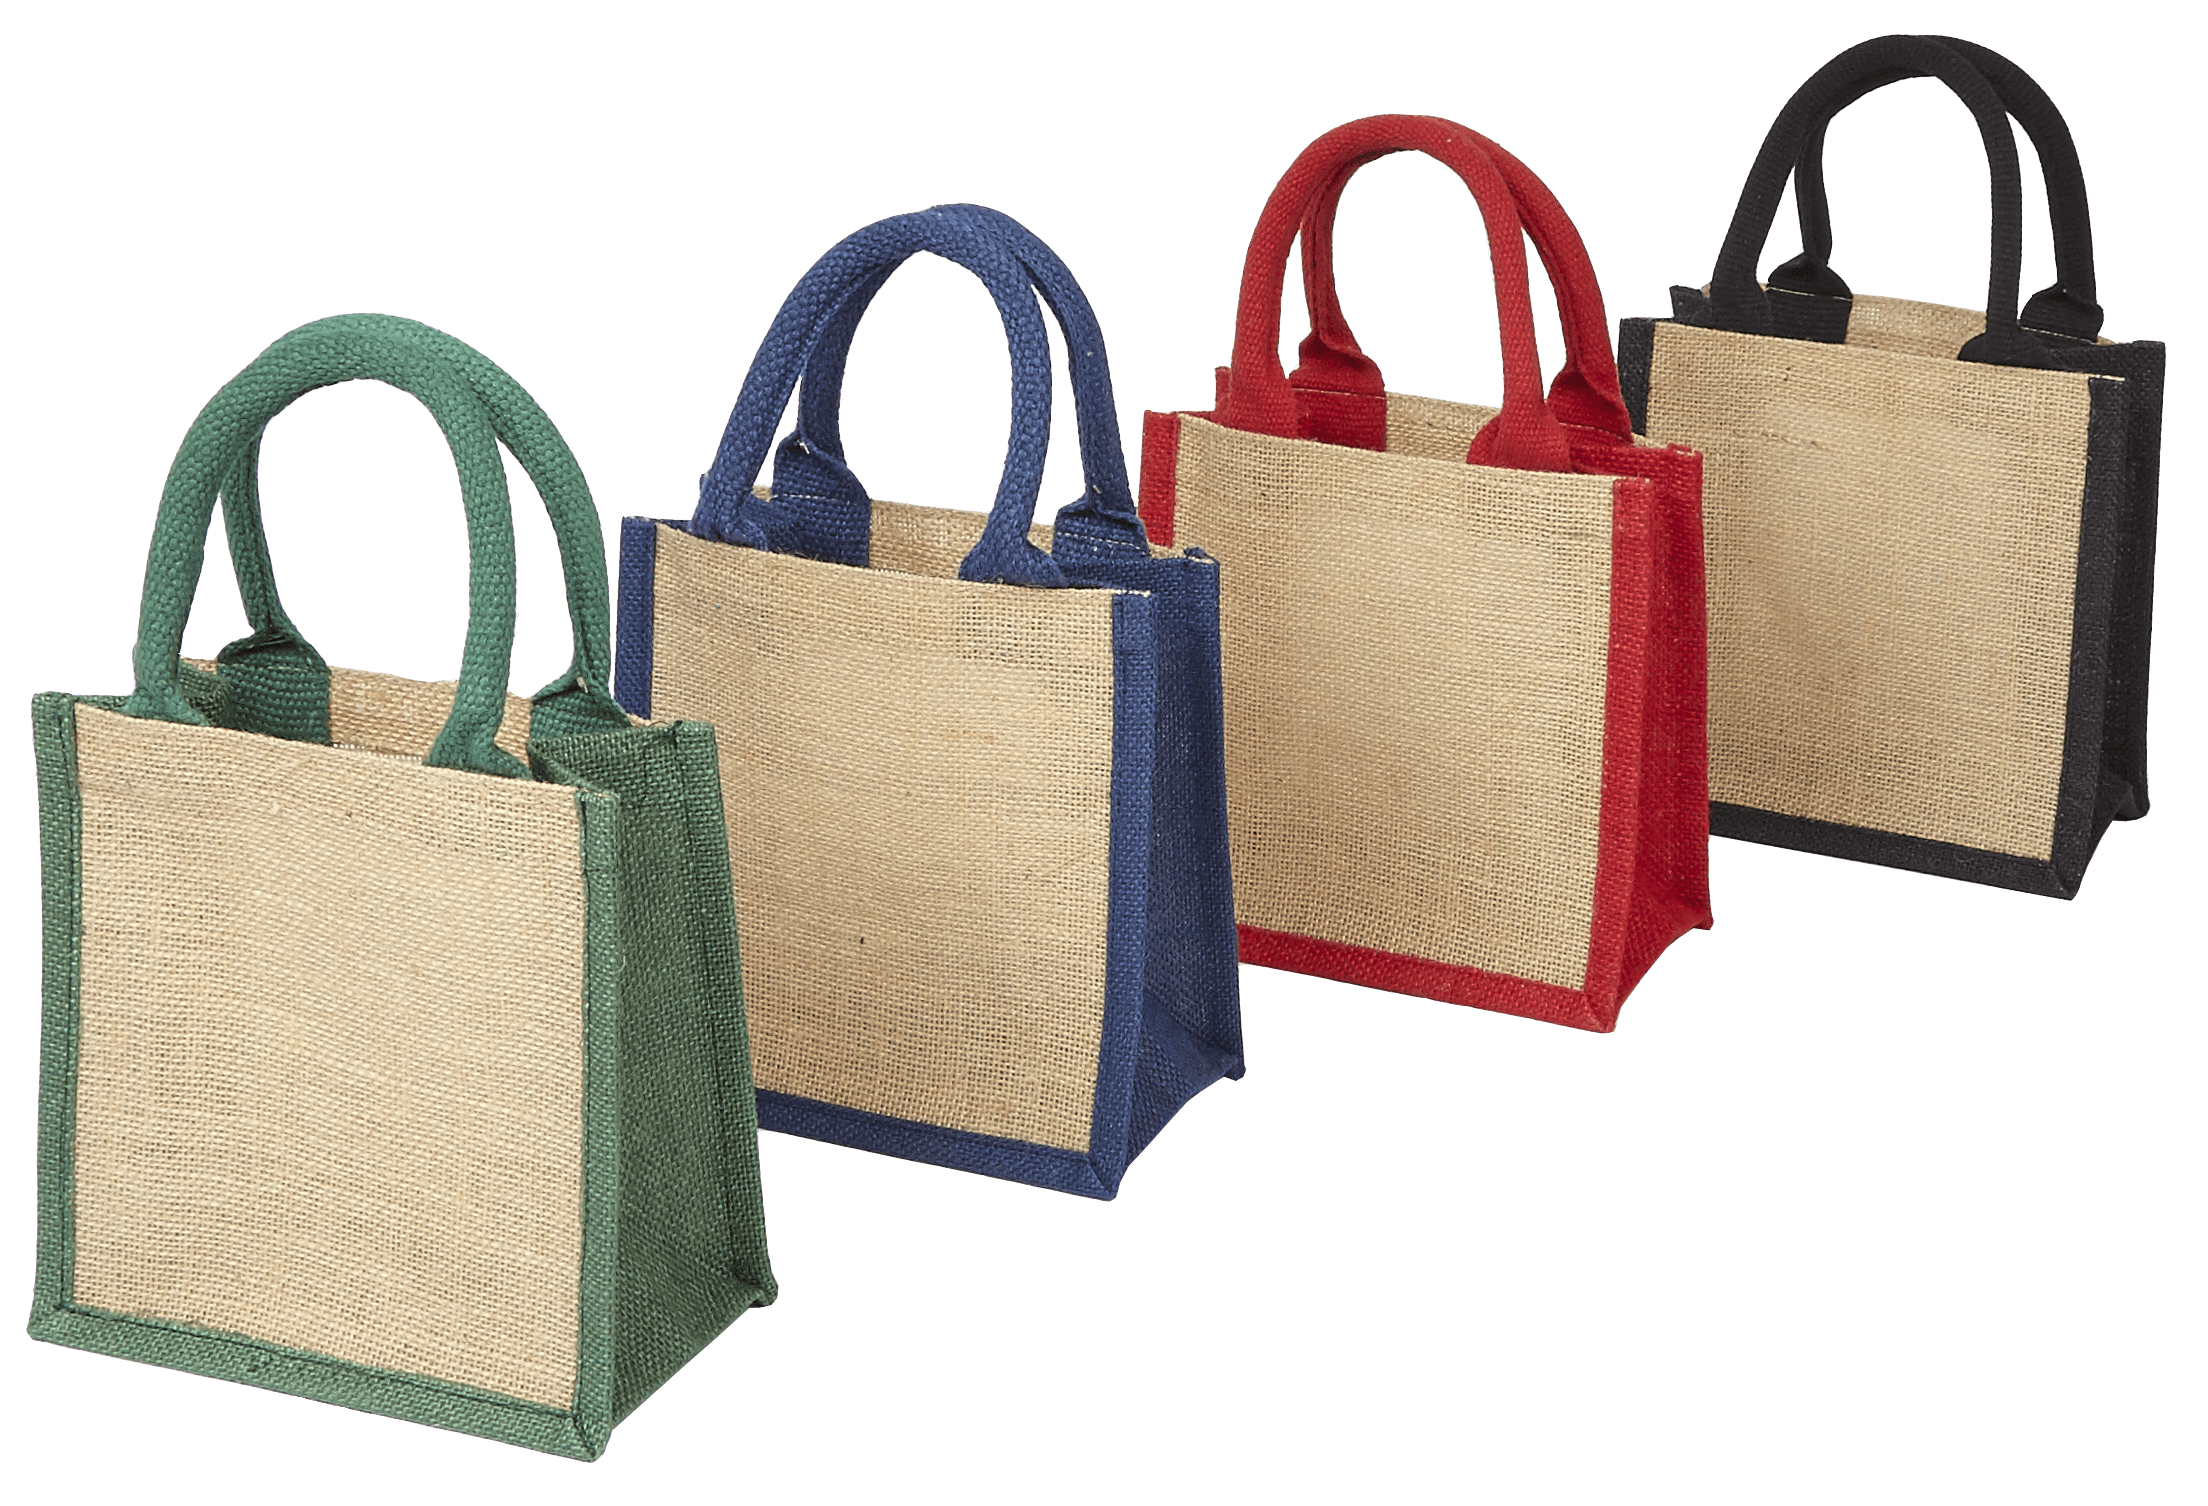jutebag: (27, 34, 2153, 1467)
